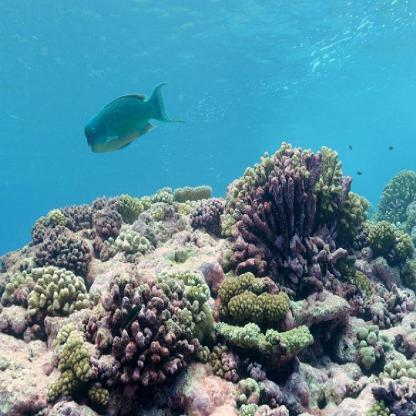Scaridae -Parrotfishes-: (81, 79, 194, 153)
